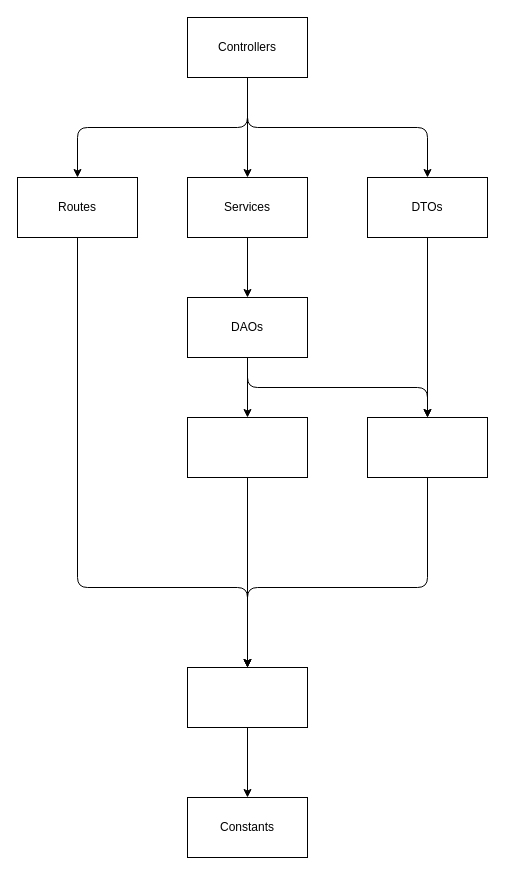
This 505x875 diagram has some shape labels left out. The shapes that lost their labels are listed below. From the top down, each one's centre as x and y in pixels, then its label:
At (x=247, y=447): "Models".
At (x=427, y=447): "Entities".
At (x=247, y=697): "Helpers".
